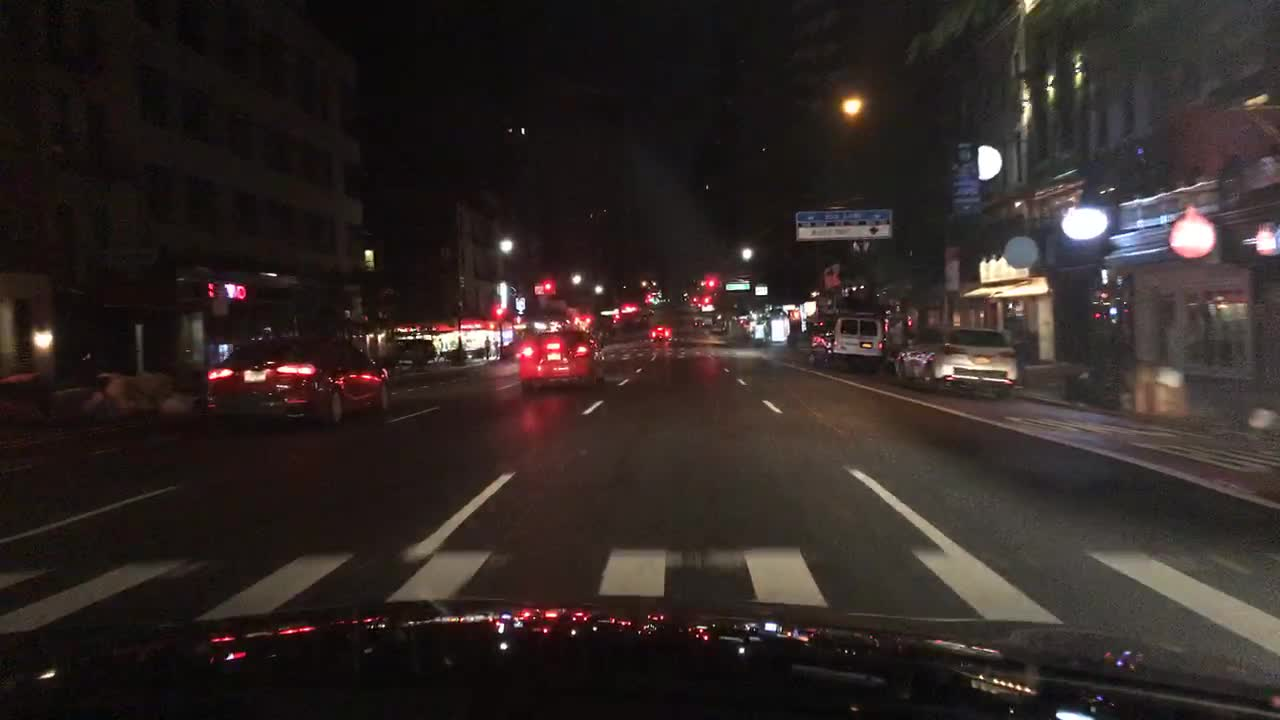car: (202, 334, 391, 428), (891, 322, 1017, 395), (516, 327, 607, 391), (803, 307, 886, 368), (388, 336, 437, 364), (649, 324, 671, 341), (705, 320, 727, 334), (691, 313, 705, 327)
person: (482, 334, 492, 361)
traffic light: (698, 293, 712, 307), (543, 278, 553, 297), (705, 273, 714, 293), (492, 305, 503, 319)
traffic sign: (793, 206, 892, 239), (722, 282, 747, 292), (752, 283, 766, 295)
